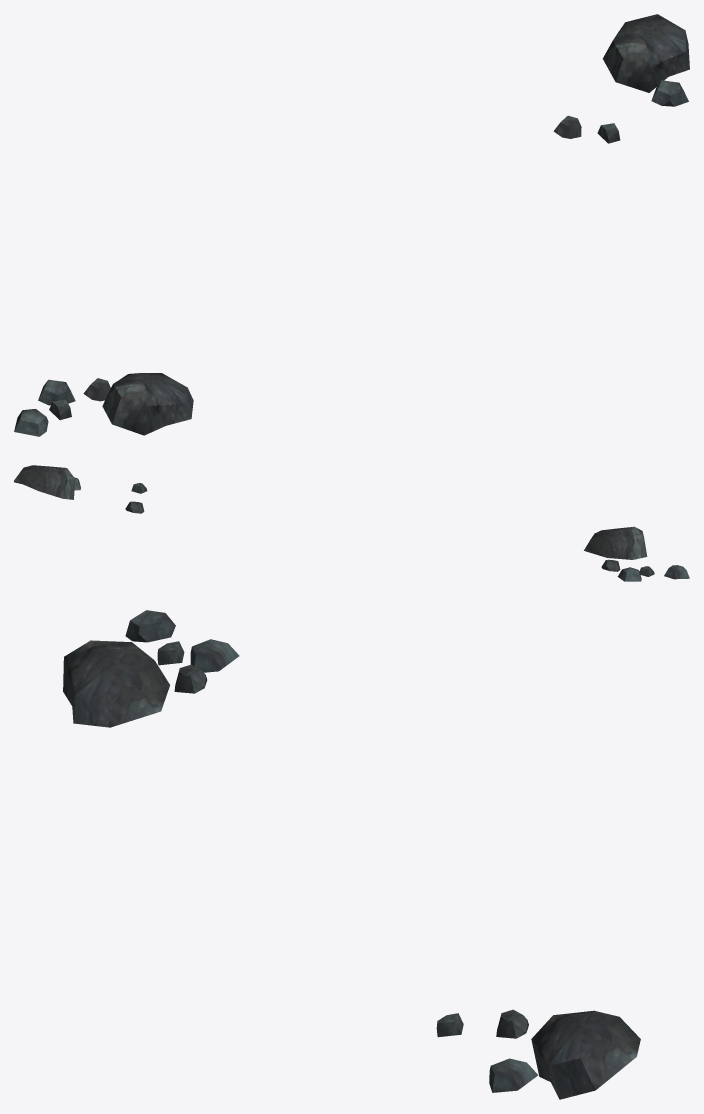
Rendered from object_rubble08.fbx.
3 renders of one model, top to bottom at view 1: azimuth 30°, elevation 25°; view 2: azimuth 150°, elevation 25°; view 3: azimuth 270°, elevation 25°, orthographic. The views are drawn at different scales.
Parts seen in each view (by area): view 1: Material_#238683587/cliffside; view 2: Material_#238683587/cliffside; view 3: Material_#238683587/cliffside.
Boxes of the visible parts, x1,y1,x2,y2 form: Material_#238683587/cliffside: (14,14,689,436); Material_#238683587/cliffside: (14,465,689,581); Material_#238683587/cliffside: (63,610,640,1099).
Bounding box in the file's own units: 11.87 × 1.32 × 5.27.
